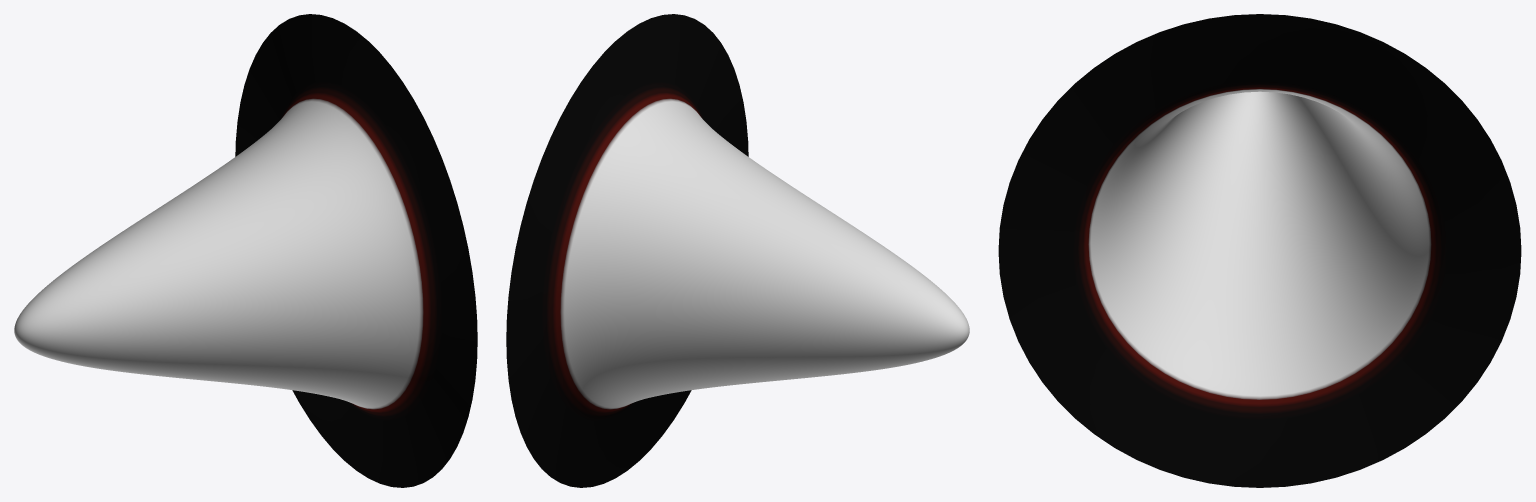
File: WaterModel.fbx
The picture shows the model from 3 angles, left to right: view 1: azimuth 30°, elevation 25°; view 2: azimuth 150°, elevation 25°; view 3: azimuth 270°, elevation 25°; orthographic projection. The views are drawn at different scales.
Visible parts, largest first — view 1: Cylinder030; view 2: Cylinder030; view 3: Cylinder030.
Part boxes in pixels (x1,y1,x2,y2): Cylinder030: [14, 14, 477, 487]; Cylinder030: [506, 14, 969, 487]; Cylinder030: [998, 14, 1521, 487].
Size of the model in its own units: 2060 by 2544 by 2544.
